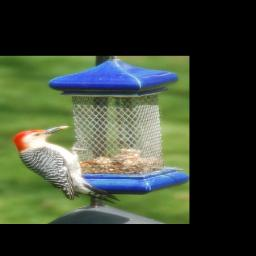Woodpecker: (13, 122, 127, 207)
